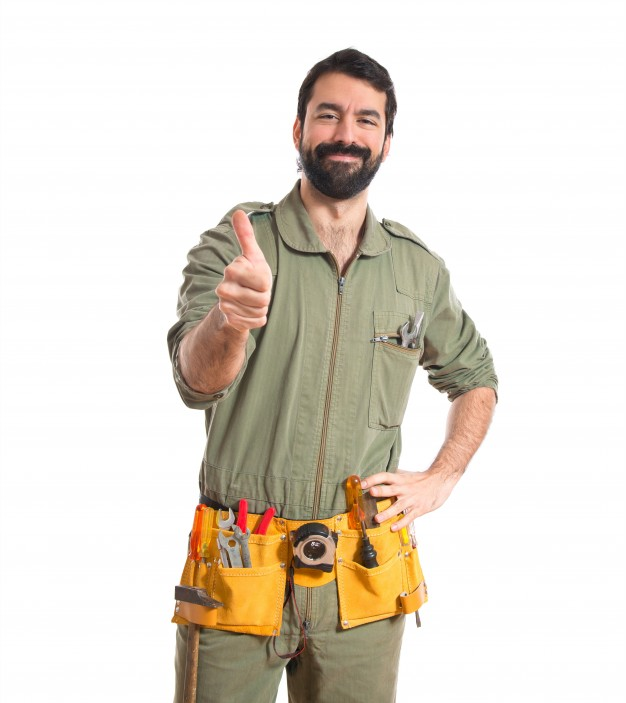thumbsup: (215, 210, 271, 329)
